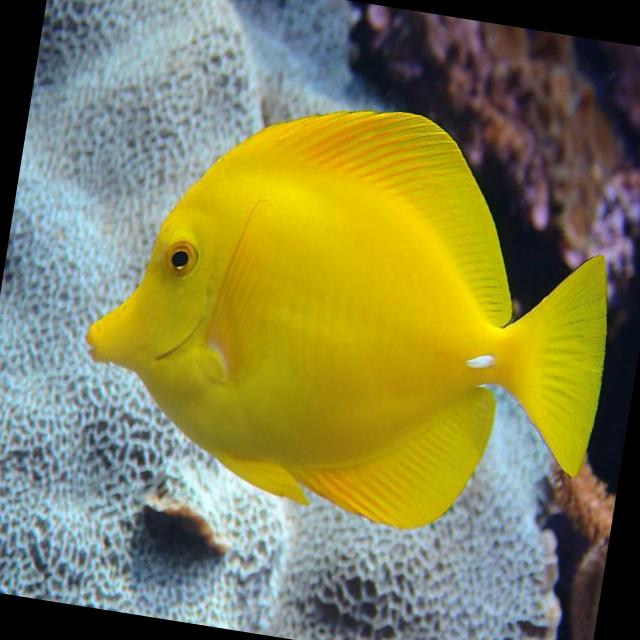TangFish: (61, 60, 640, 561)
